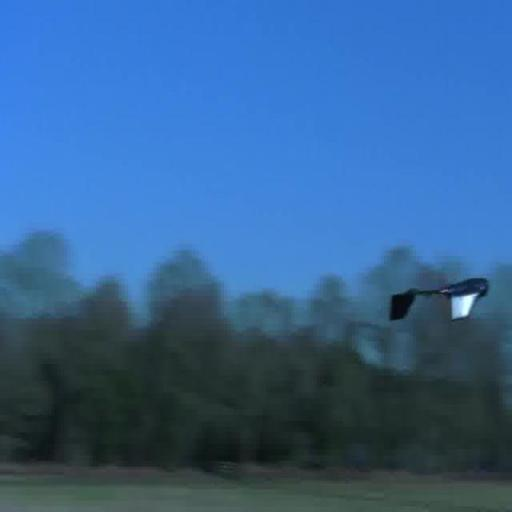uav: (378, 265, 494, 337)
